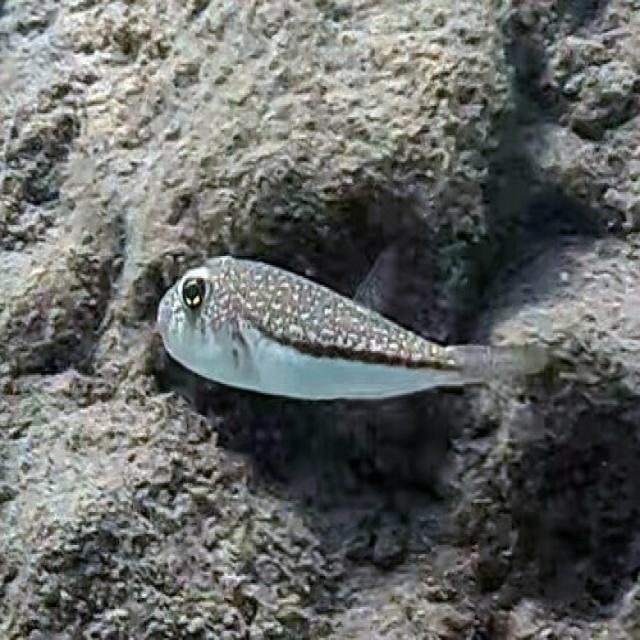Balik: (158, 256, 545, 400)
